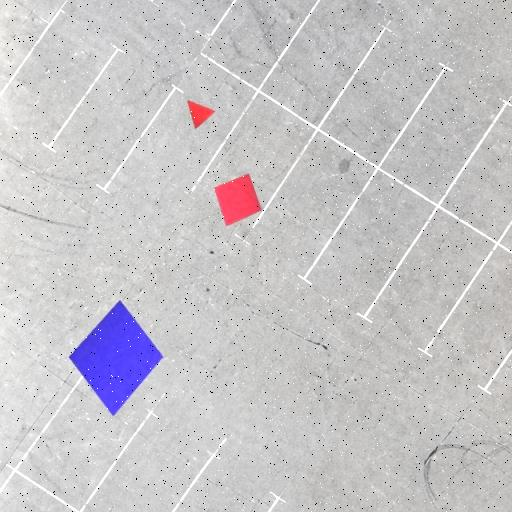BLUE_SQUARE: (68, 299, 164, 418)
RED_SQUARE: (214, 173, 262, 227)
